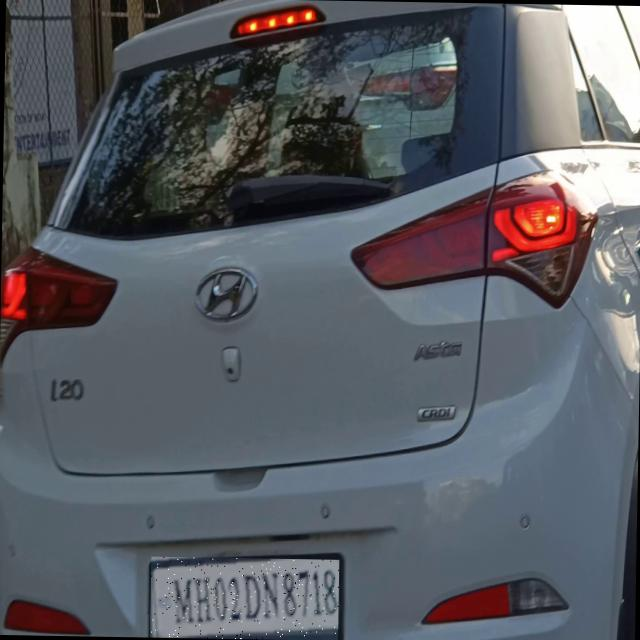Plate: (151, 557, 340, 640)
